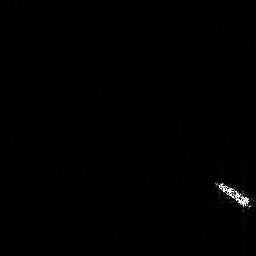ship: (211, 176, 255, 213)
